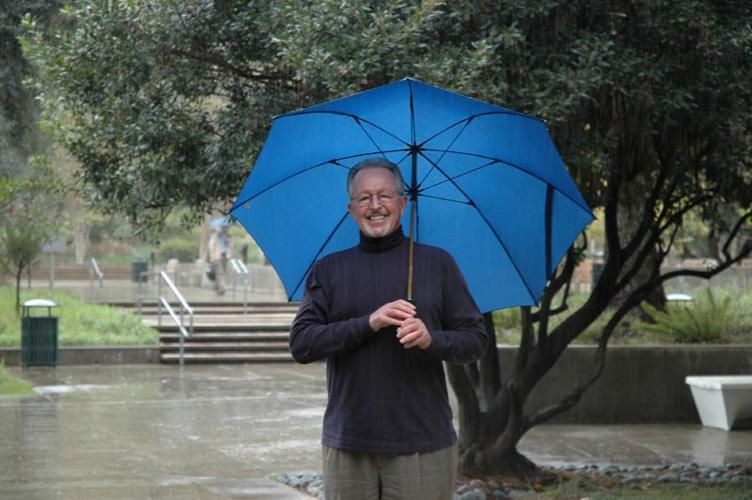person: (290, 159, 490, 500)
